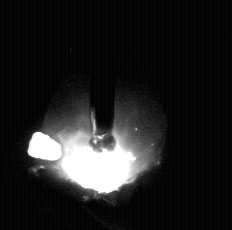arame: (90, 0, 115, 152)
poca: (41, 0, 166, 230)
